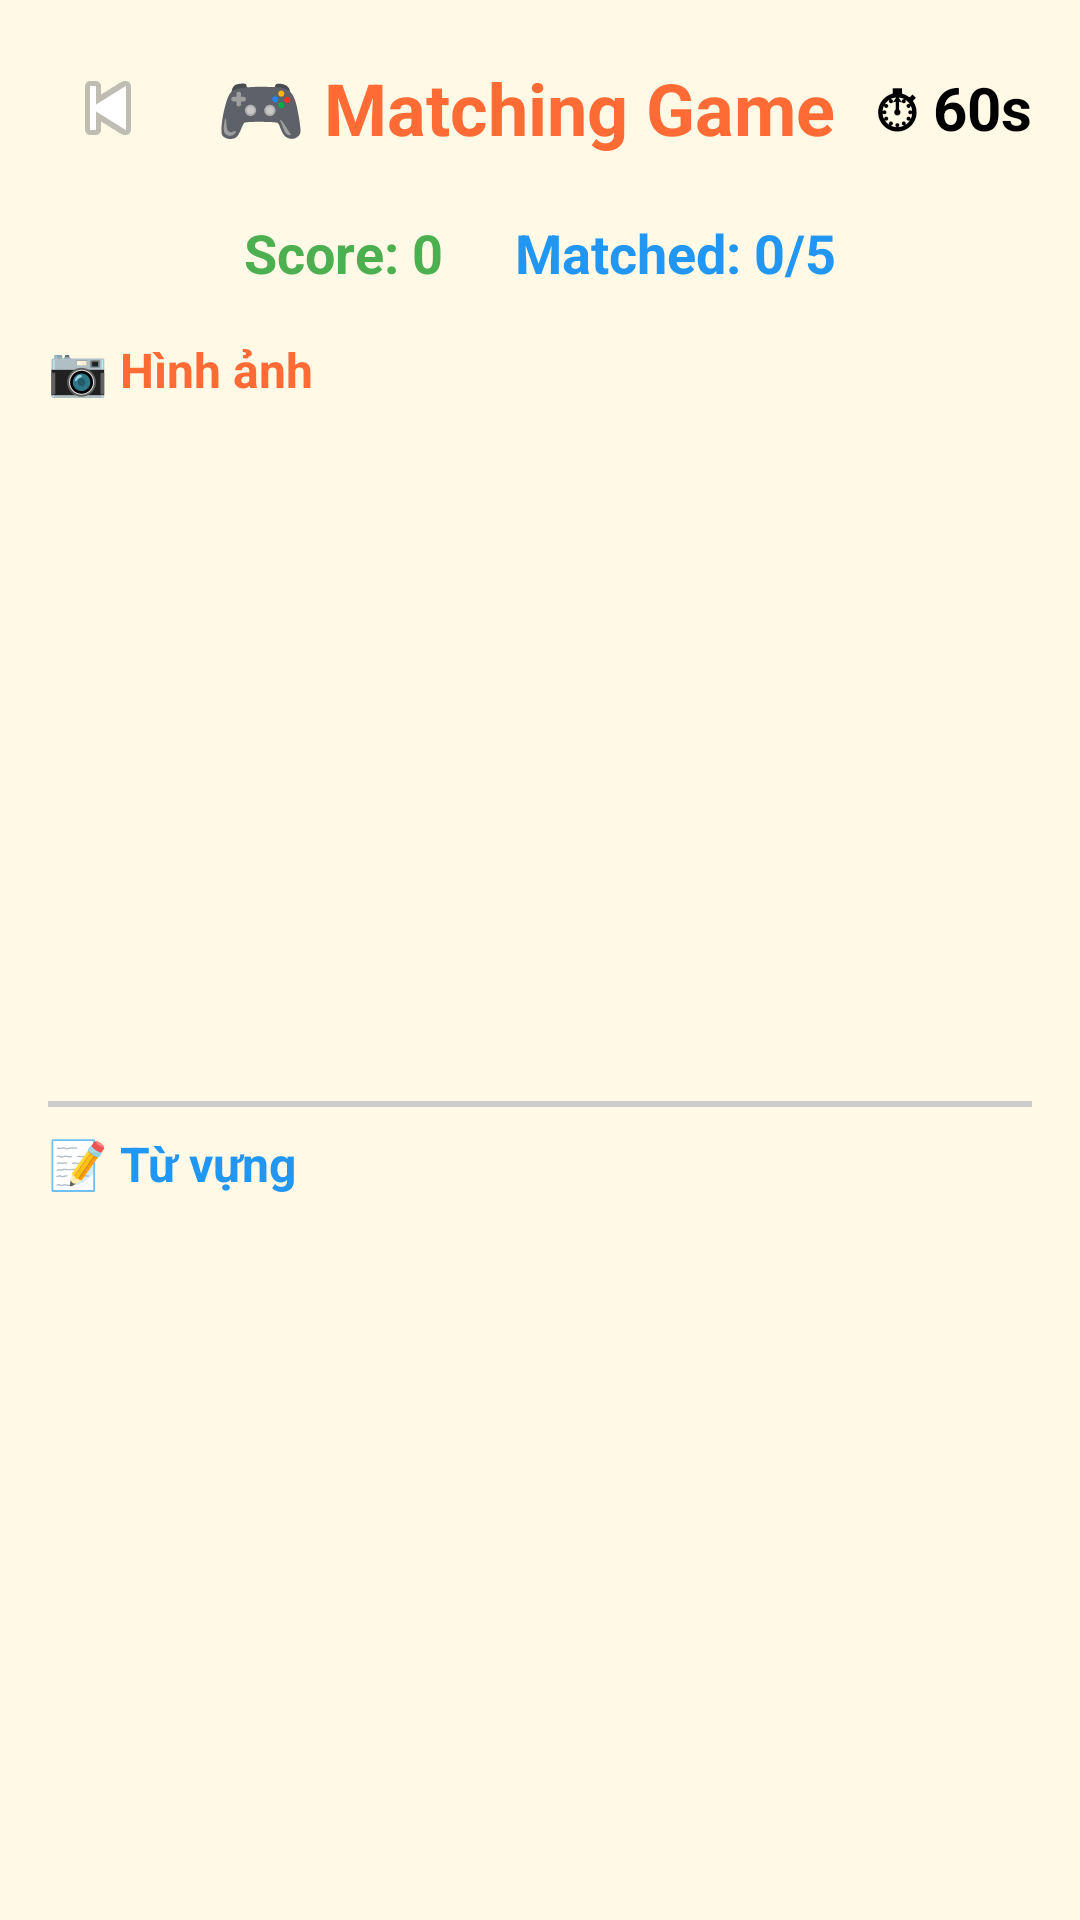

Icons on this 1080px×1920px Android screen, each with the point to tap as (x,y):
previous: (108,108)
